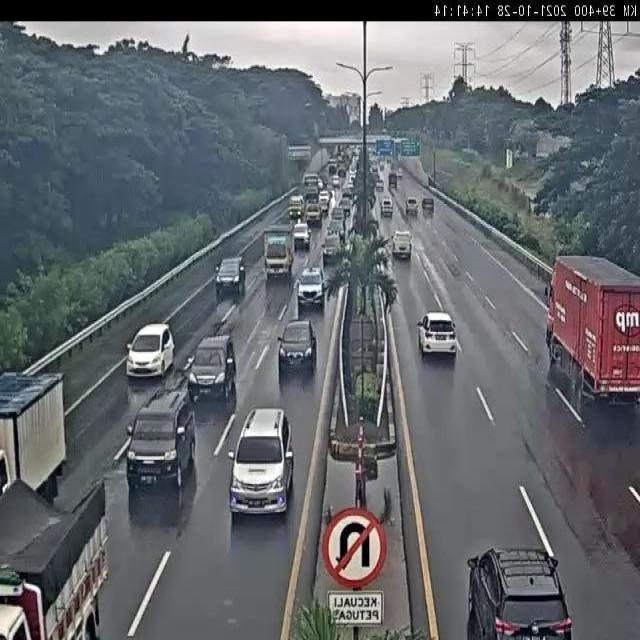Car: (126, 388, 197, 496), (227, 409, 294, 522), (182, 330, 242, 395), (124, 315, 176, 378), (277, 318, 317, 376), (419, 308, 461, 363), (214, 252, 249, 300), (295, 262, 323, 314)
Truck: (542, 245, 640, 402), (0, 366, 70, 505), (262, 221, 295, 277)
